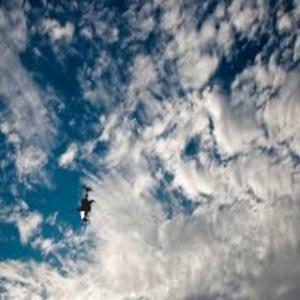drone: (54, 175, 113, 234)
